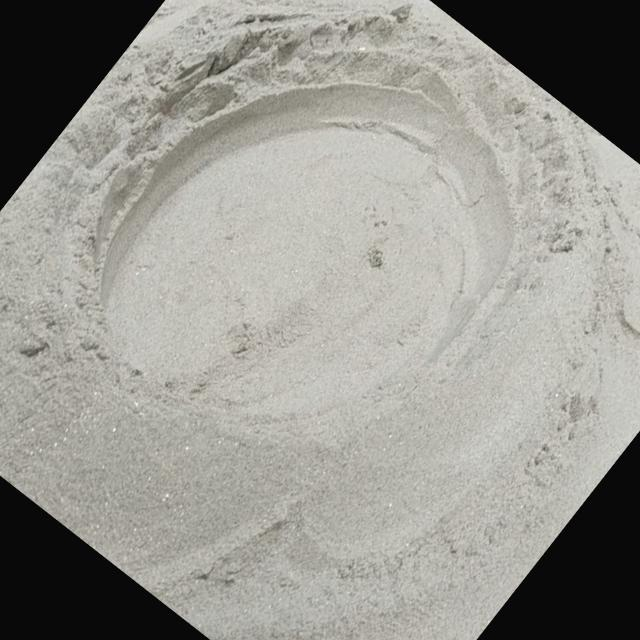C40: (99, 70, 513, 414)
